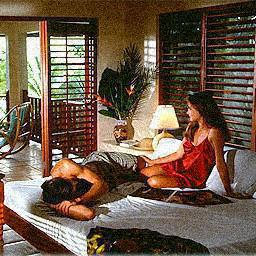Matera: (100, 50, 155, 143)
Puerta: (44, 32, 97, 186)
